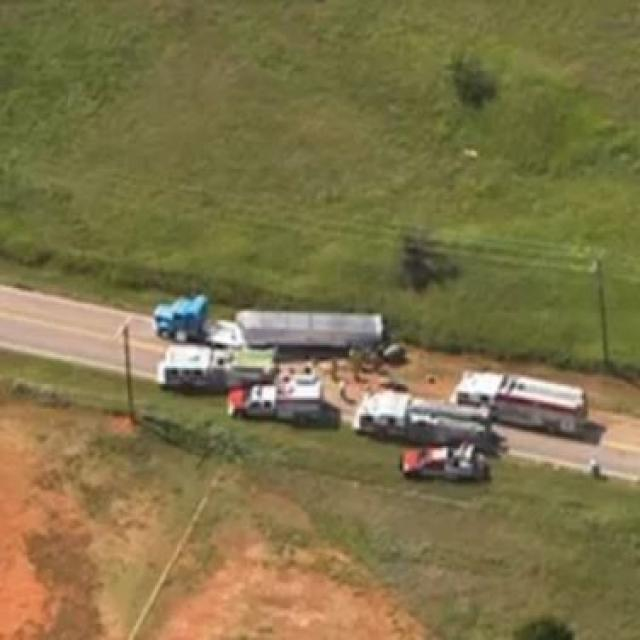traffic_incident: (146, 291, 434, 361)
